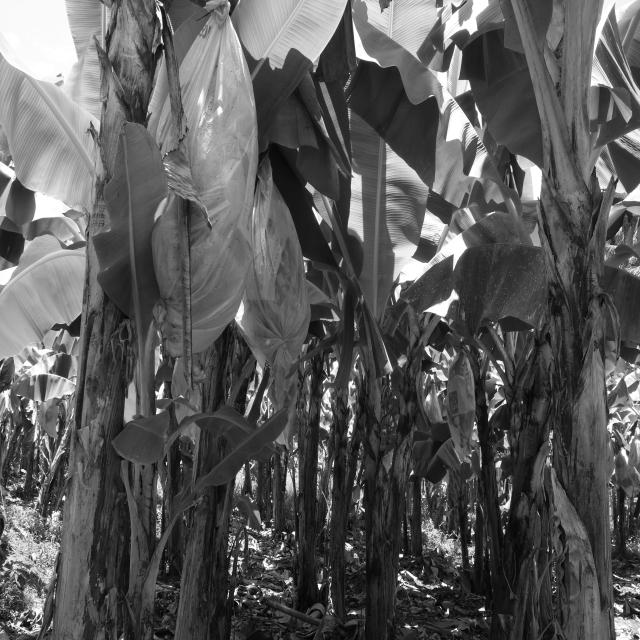Banana-plant: (45, 3, 173, 640), (506, 4, 624, 640), (171, 287, 265, 640), (360, 287, 432, 639), (316, 289, 354, 633)
